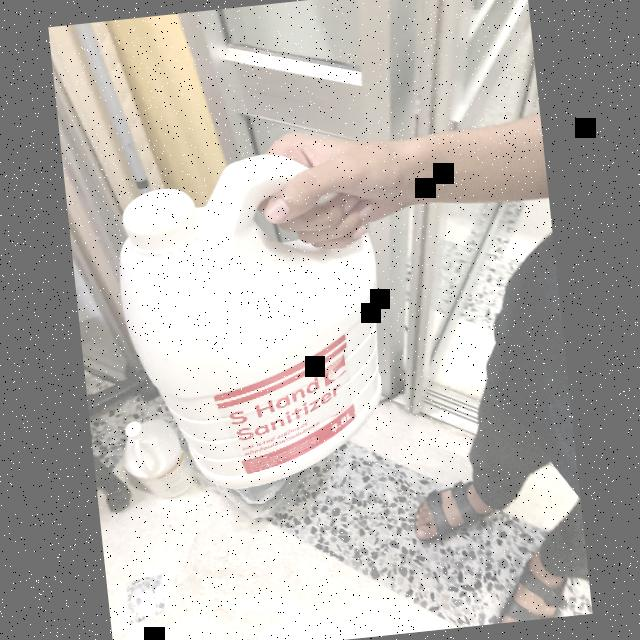chemical_plastic_gallon: (104, 143, 398, 495)
